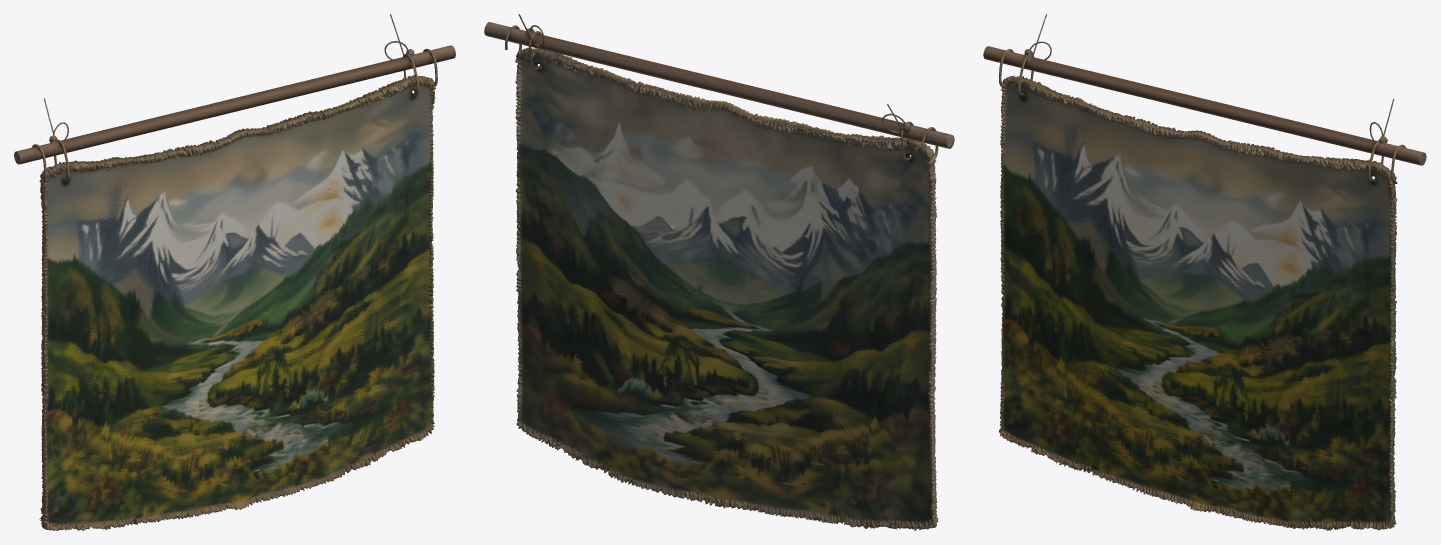
The model's file is ValeTapestry.glb.
3 renders of one model, left to right at view 1: azimuth 30°, elevation 25°; view 2: azimuth 150°, elevation 25°; view 3: azimuth 330°, elevation 25°, orthographic. The views are drawn at different scales.
Size of the model in its own units: 2 by 1.92 by 0.2115.
Materials: 1 (1 with a texture image).
